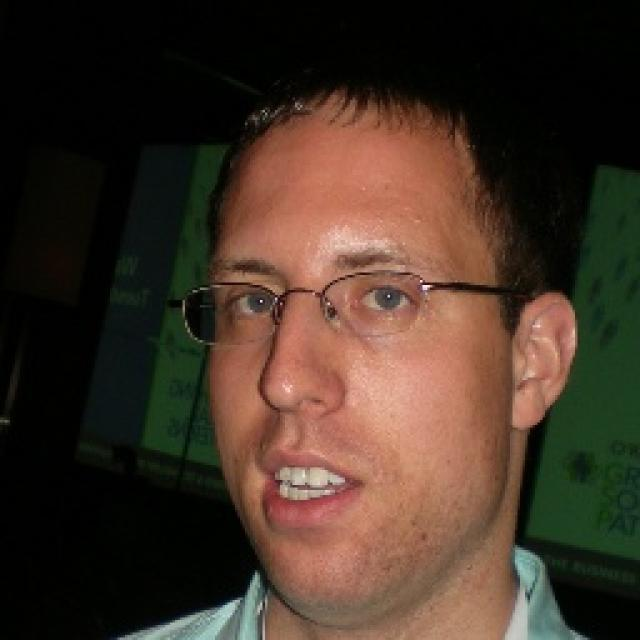earlobe: (511, 291, 577, 431)
